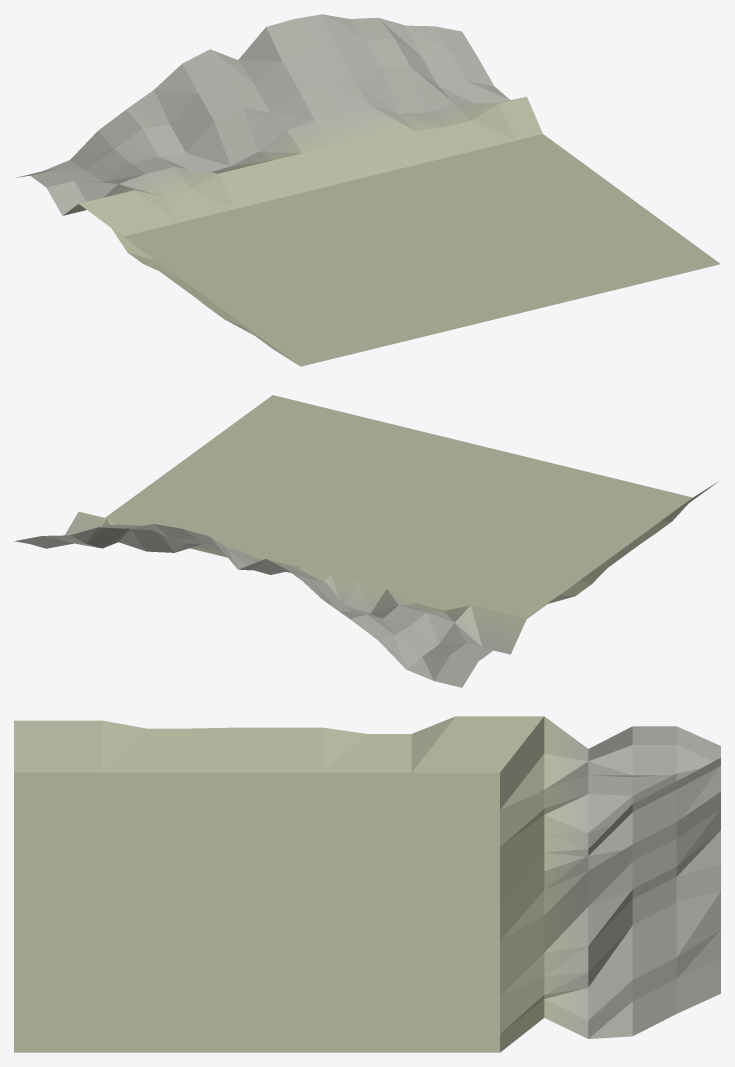
3 views of the same model, one above another, from view 1: azimuth 30°, elevation 25°; view 2: azimuth 150°, elevation 25°; view 3: azimuth 270°, elevation 25° (orthographic). The views are drawn at different scales.
Size of the model in its own units: 32 by 6.6 by 32.
